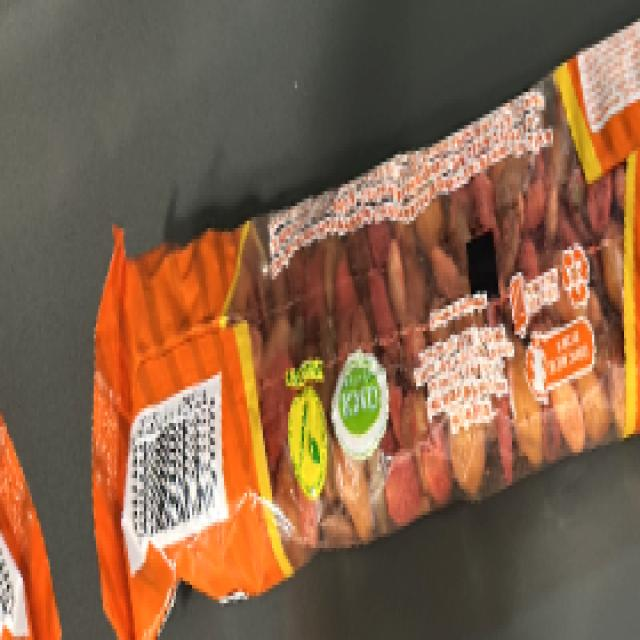bitzEnchilado95: (88, 195, 630, 547)
